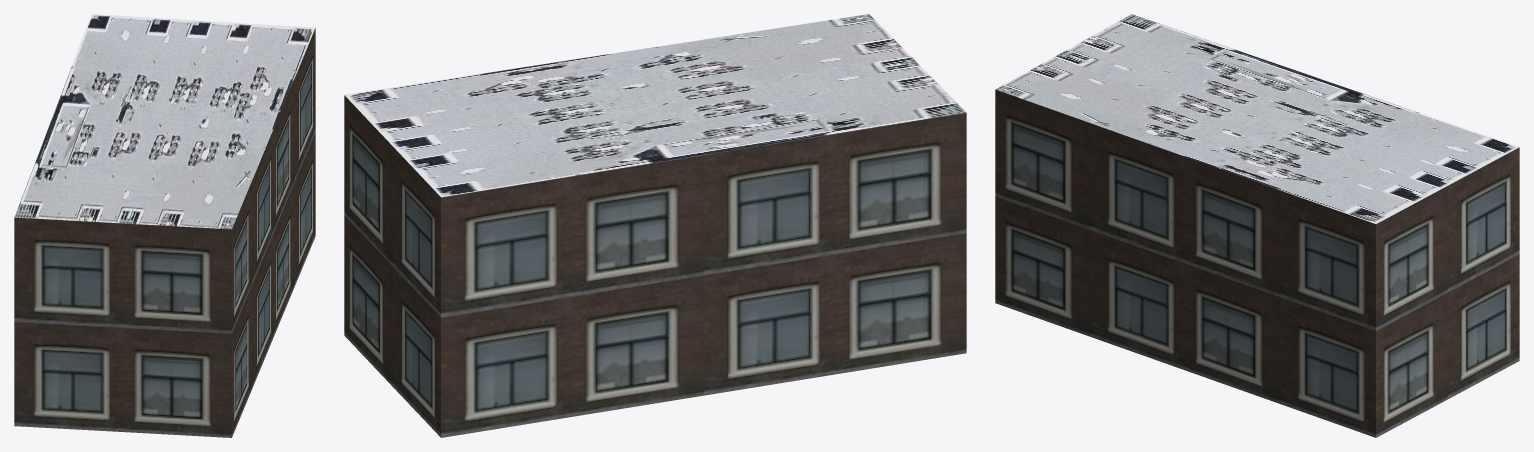
Rendered from ResTex__3024.fbx.
3 renders of one model, left to right at view 1: azimuth 30°, elevation 25°; view 2: azimuth 150°, elevation 25°; view 3: azimuth 270°, elevation 25°, orthographic. The views are drawn at different scales.
Parts seen in each view (by area): view 1: CityEngineMaterial_16_m, CityEngineMaterial_15_m; view 2: CityEngineMaterial_16_m, CityEngineMaterial_15_m; view 3: CityEngineMaterial_16_m, CityEngineMaterial_15_m.
Boxes of the visible parts, box(x1,y1,x2,y2) form: CityEngineMaterial_16_m: box(14, 28, 315, 437); CityEngineMaterial_15_m: box(14, 14, 315, 229); CityEngineMaterial_16_m: box(344, 95, 966, 437); CityEngineMaterial_15_m: box(344, 14, 966, 197); CityEngineMaterial_16_m: box(995, 89, 1519, 437); CityEngineMaterial_15_m: box(995, 14, 1518, 223).
Bounding box in the file's own units: 12.66 × 6 × 13.33.
2 materials, 2 textured.
